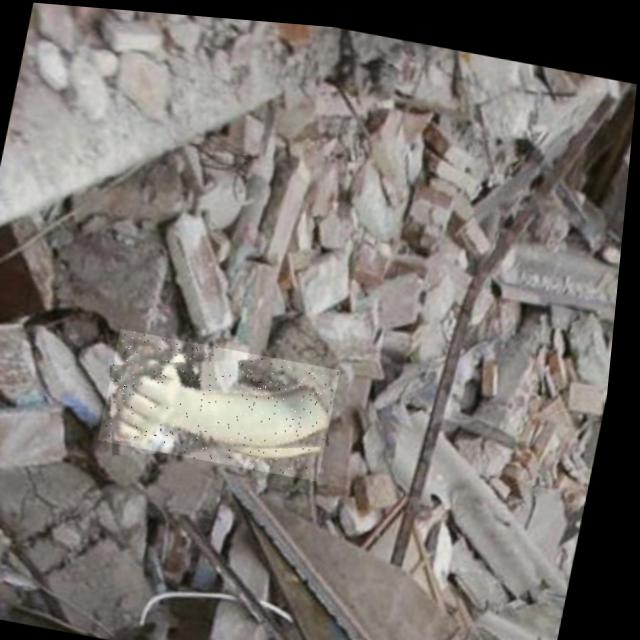Person in Rubble: (103, 325, 348, 476)
